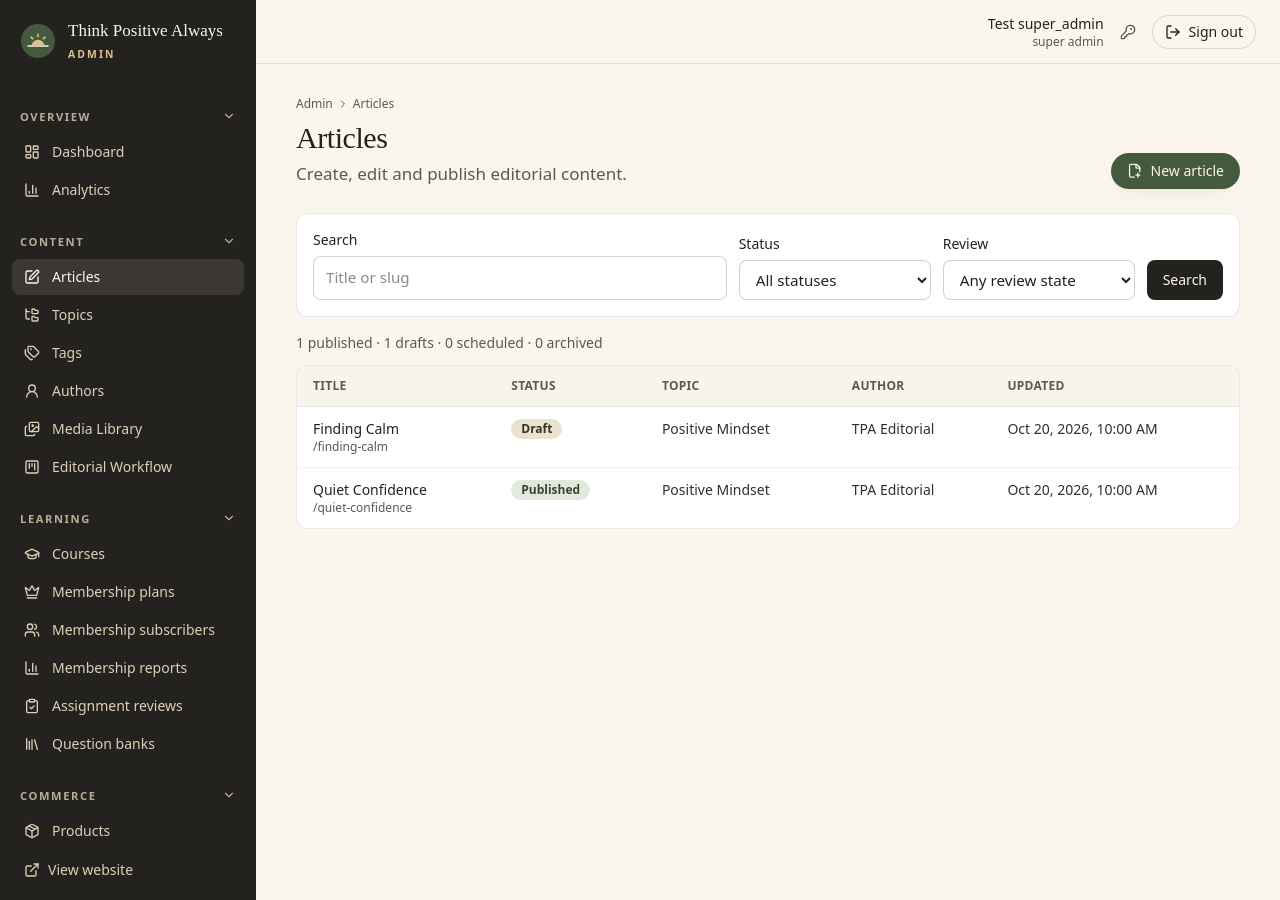
Test: articles › lists articles and filters by status
Check: the link "Finding Calm" is shown, box left=313, top=419, right=399, bottom=438
Check: the link "Quiet Confidence" is shown, box left=313, top=480, right=427, bottom=499
Select "Published" in the dropdown labelled "Status" at [835, 280], box left=739, top=260, right=931, bottom=300
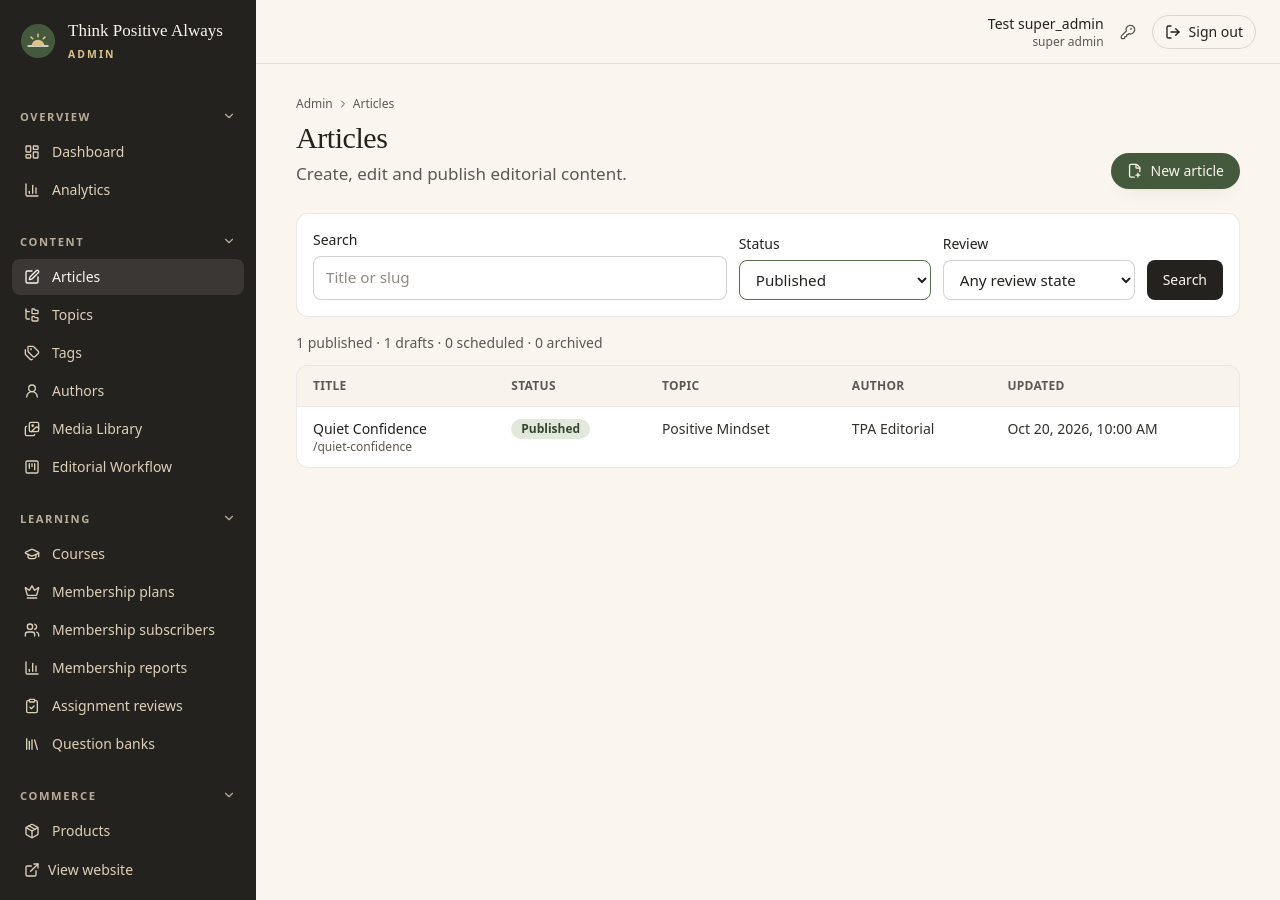
Check: the link "Quiet Confidence" is shown, box left=313, top=419, right=427, bottom=438
Check: the link "Finding Calm" is gone
